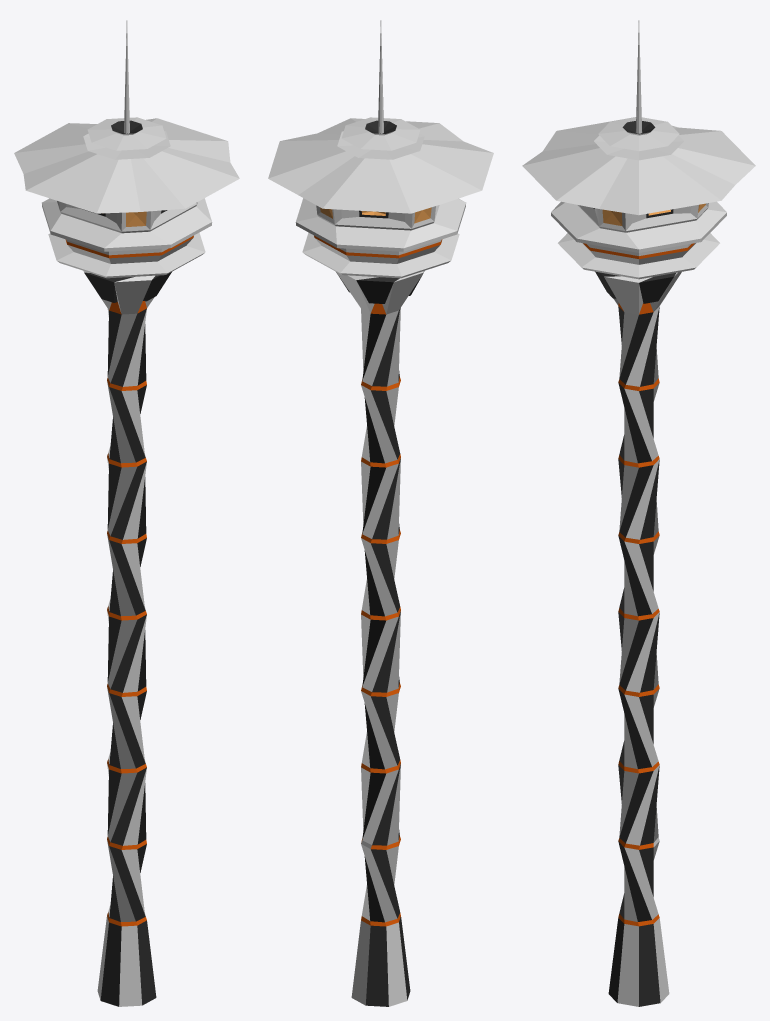
The model's file is Lightfire Main_ver4.fbx.
The picture shows the model from 3 angles, left to right: view 1: azimuth 30°, elevation 25°; view 2: azimuth 150°, elevation 25°; view 3: azimuth 270°, elevation 25°; orthographic projection.
Visible parts, largest first — view 1: Lightfire Top; view 2: Lightfire Top; view 3: Lightfire Top.
Part boxes in pixels (x1,y1,x2,y2): Lightfire Top: [14, 20, 239, 1006]; Lightfire Top: [268, 20, 493, 1006]; Lightfire Top: [522, 20, 755, 1006].
Bounding box in the file's own units: 1046 × 4839 × 1046.
